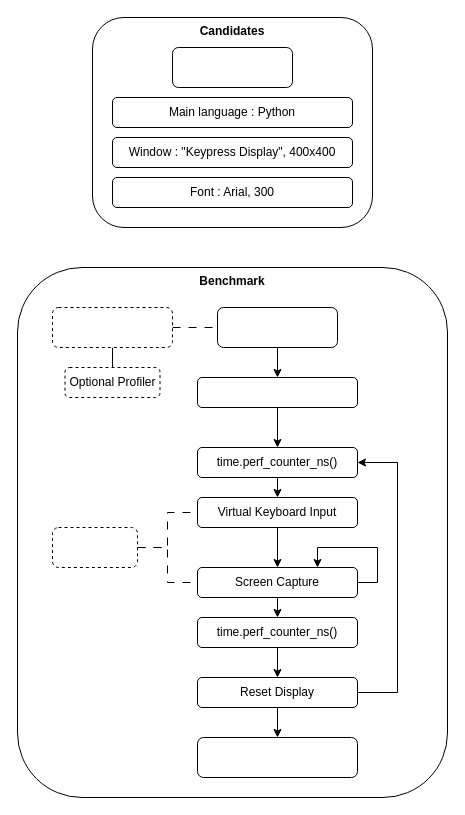
Image size: 465x815. Some labels were removed from this diagram. Here are the shapes that lost their labels. From the top down, the centre of each, then its label:
(x=232, y=67): Key To Display App
(x=112, y=327): Python Subprocess
(x=277, y=327): Launch Candidate
(x=277, y=392): Warmup
(x=95, y=547): WinAPI
(x=277, y=757): Save Results
